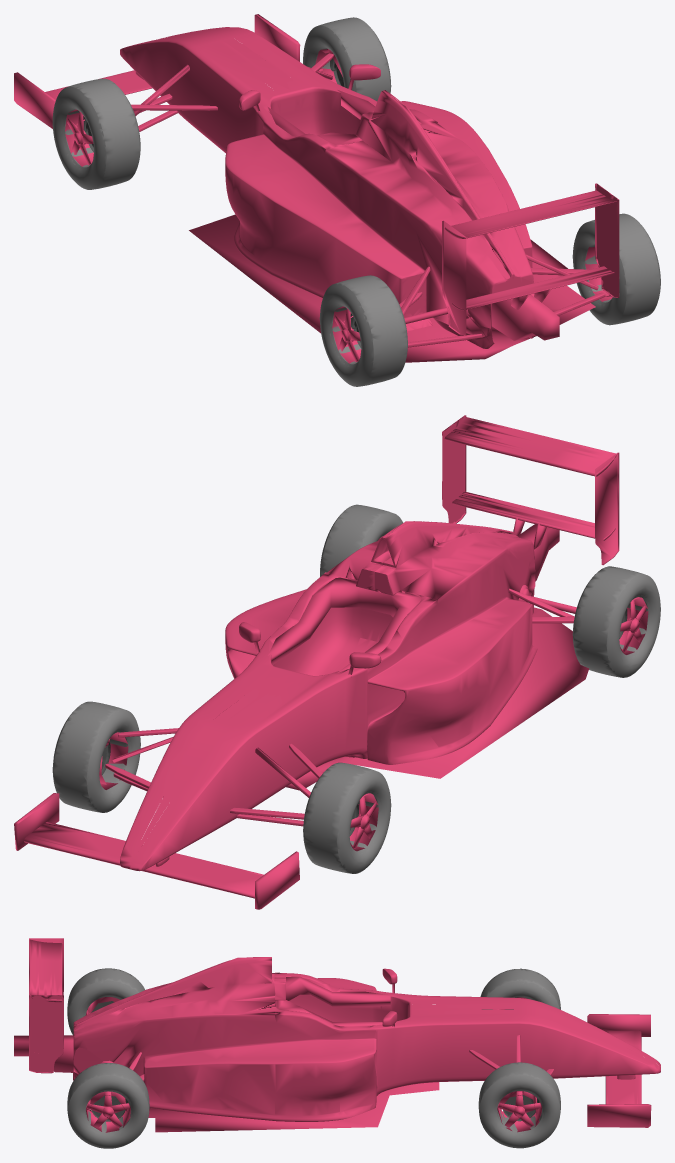
3 renders of one model, top to bottom at view 1: azimuth 30°, elevation 25°; view 2: azimuth 150°, elevation 25°; view 3: azimuth 270°, elevation 25°, orthographic. The views are drawn at different scales.
Parts seen in each view (by area): view 1: body, wheel-front-left, wheel-back-left, wheel-back-right, wheel-front-right; view 2: body, wheel-front-right, wheel-front-left, wheel-back-left, wheel-back-right; view 3: body, wheel-front-right, wheel-back-right, wheel-back-left, wheel-front-left.
Part boxes in pixels (<box>): body: <box>14,14,619,363</box>; wheel-front-left: <box>52,78,140,189</box>; wheel-back-left: <box>319,275,407,386</box>; wheel-back-right: <box>572,213,660,325</box>; wheel-front-right: <box>303,17,391,101</box>; body: <box>14,415,648,909</box>; wheel-front-right: <box>52,701,140,812</box>; wheel-front-left: <box>303,762,391,873</box>; wheel-back-left: <box>572,566,660,677</box>; wheel-back-right: <box>320,504,402,576</box>; body: <box>14,938,660,1132</box>; wheel-front-right: <box>478,1062,560,1148</box>; wheel-back-right: <box>67,1063,149,1148</box>; wheel-back-left: <box>67,968,144,1035</box>; wheel-front-left: <box>480,968,560,1009</box>.
Size of the model in its own units: 1.74 by 1.01 by 4.3.
